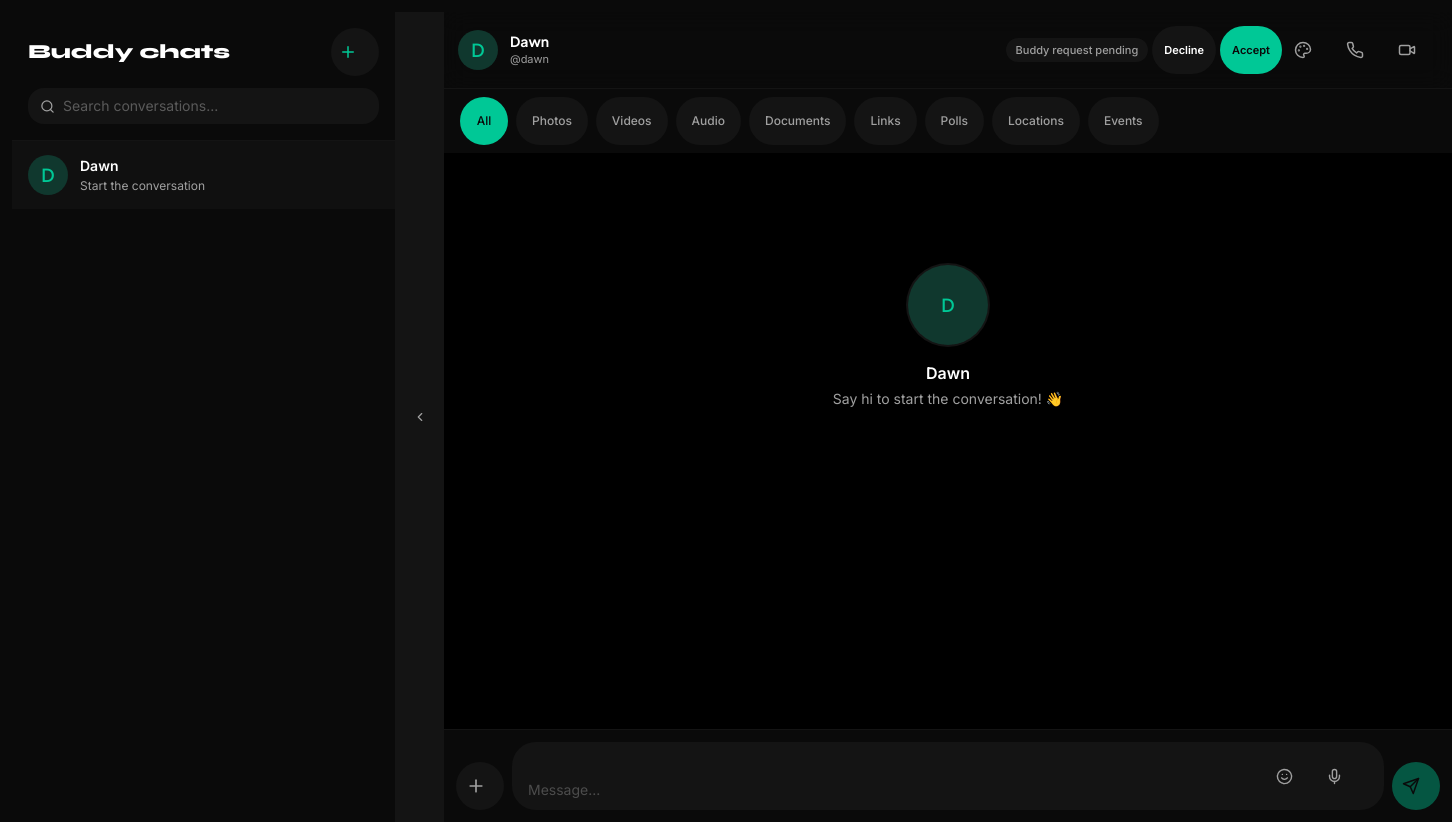
Scenario: Messages — answering an incoming buddy request › toasts the server's refusal when the endpoint outranks the payload
Step 1. Click the button "Decline" → [1184, 50], box left=1152, top=26, right=1216, bottom=74
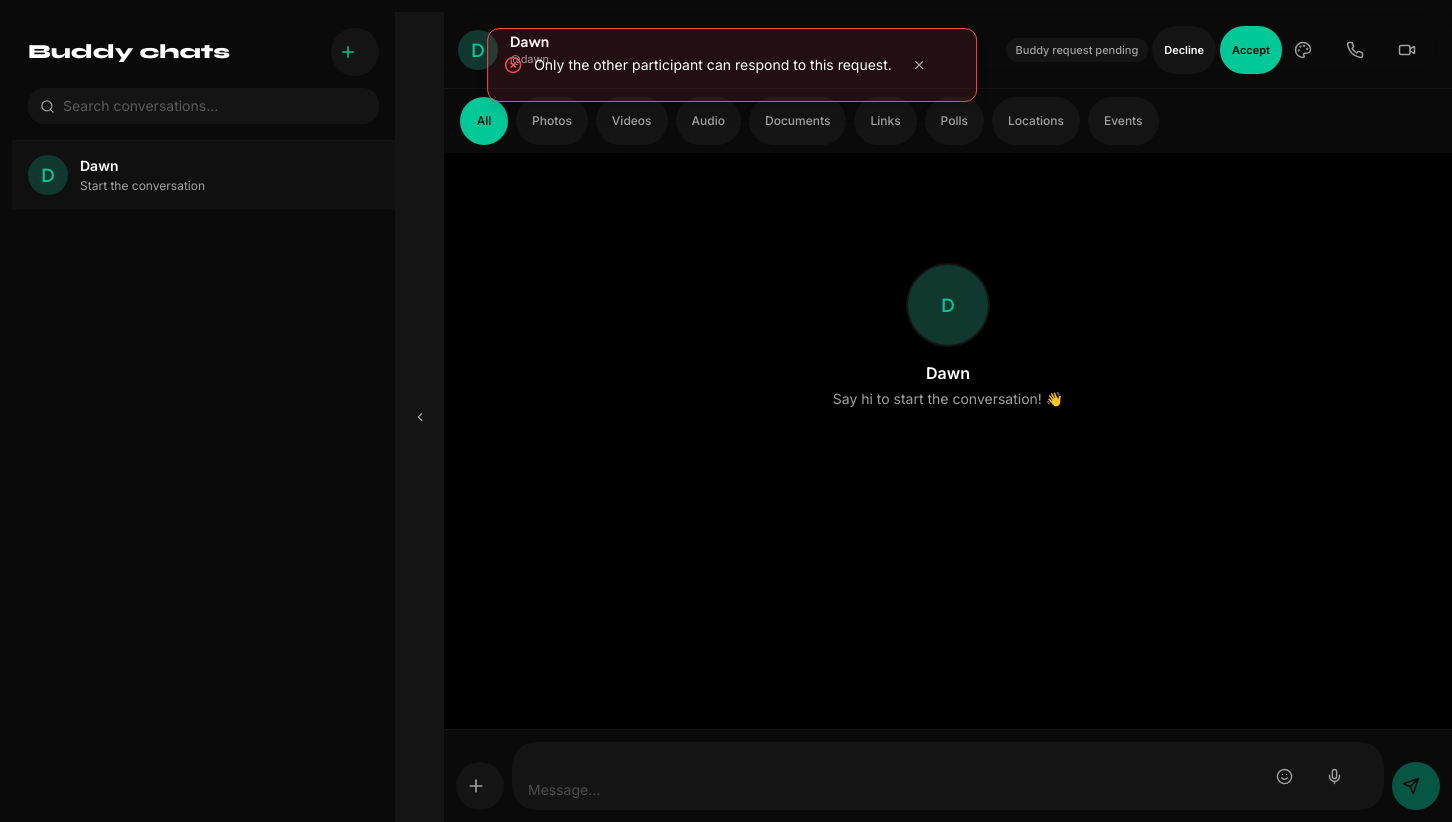
Check: the text "Buddy request pending" is shown, box left=1006, top=38, right=1148, bottom=62
Check: the text "Only the other participant can respond to this request." is shown, box left=534, top=55, right=892, bottom=75
